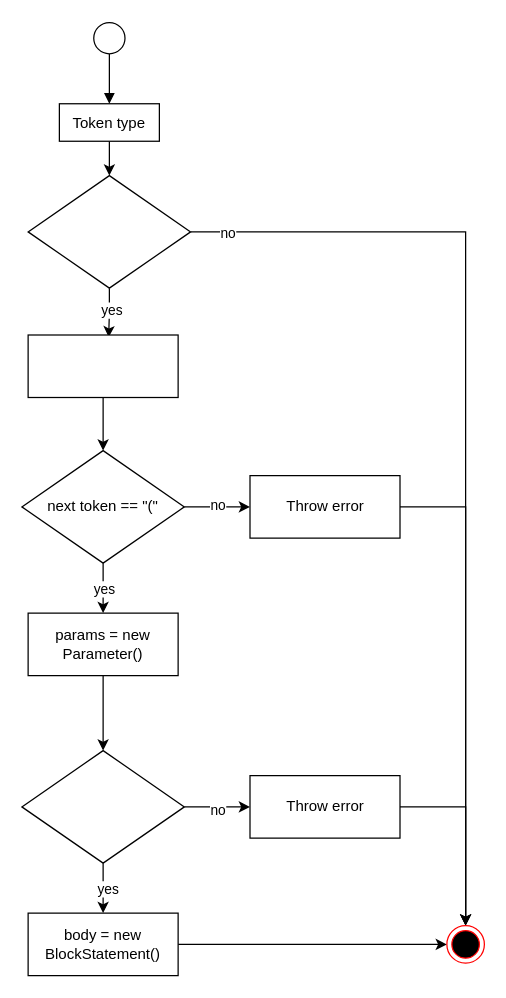
The diagram is 506 pixels wide and 998 high, and some of its shapes have lost their labels. The box of each missing label's shape, as (x1, y1, x2, y2) in pixels:
name = identifier name: (27, 334, 178, 398)
next token == ")": (21, 749, 184, 863)
Validate token is "hàm": (27, 174, 191, 288)
